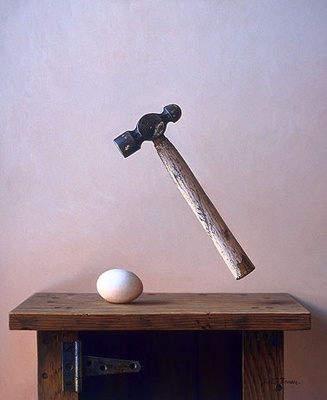hammer: (114, 102, 259, 282)
